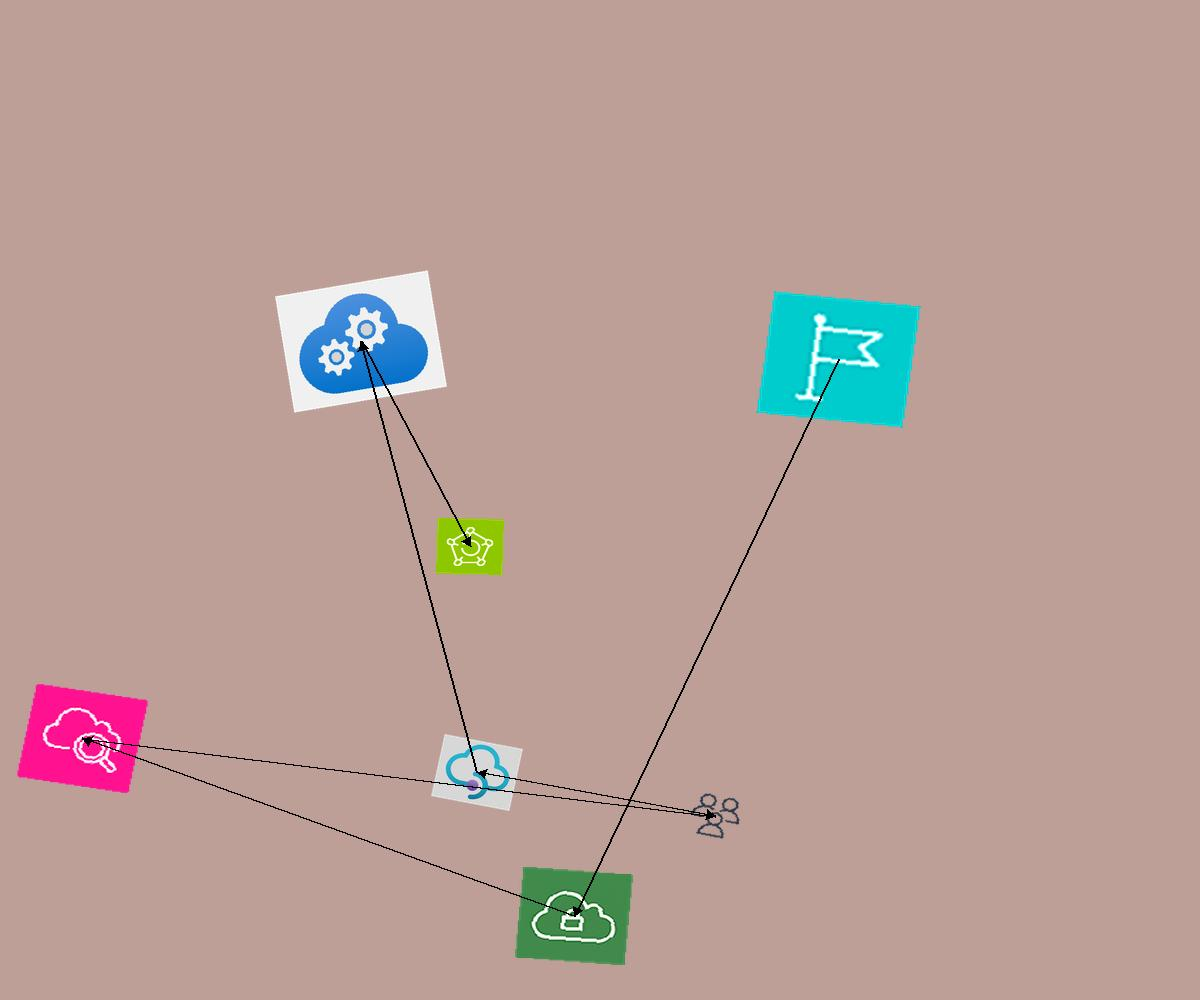AWS-Backup: (436, 518, 504, 575)
AWS-CloudWatch: (16, 683, 149, 794)
AWS-Private_vpc: (514, 866, 634, 966)
AWS-Region: (756, 291, 921, 428)
AWS-Res_Users: (683, 789, 748, 843)
Azure_api_gateway: (431, 734, 523, 811)
Azure_cloud_services: (275, 270, 447, 413)
